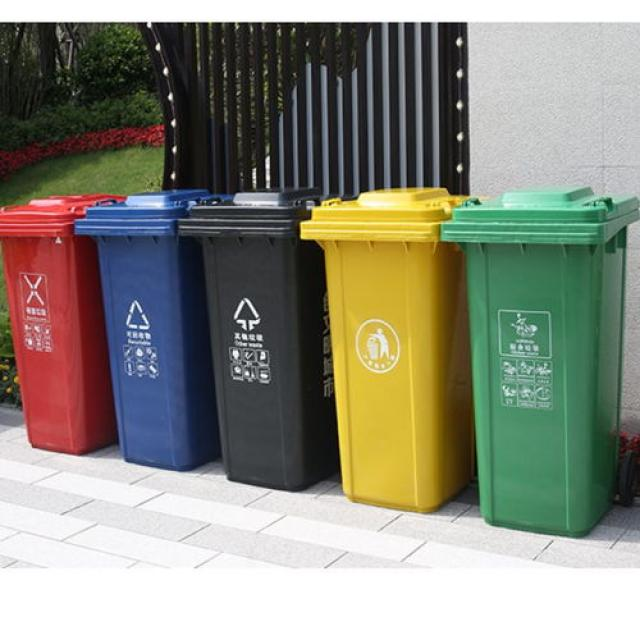garbage_bin: (442, 186, 638, 536), (298, 186, 489, 512), (175, 192, 356, 492), (75, 188, 237, 470), (0, 193, 128, 454)
